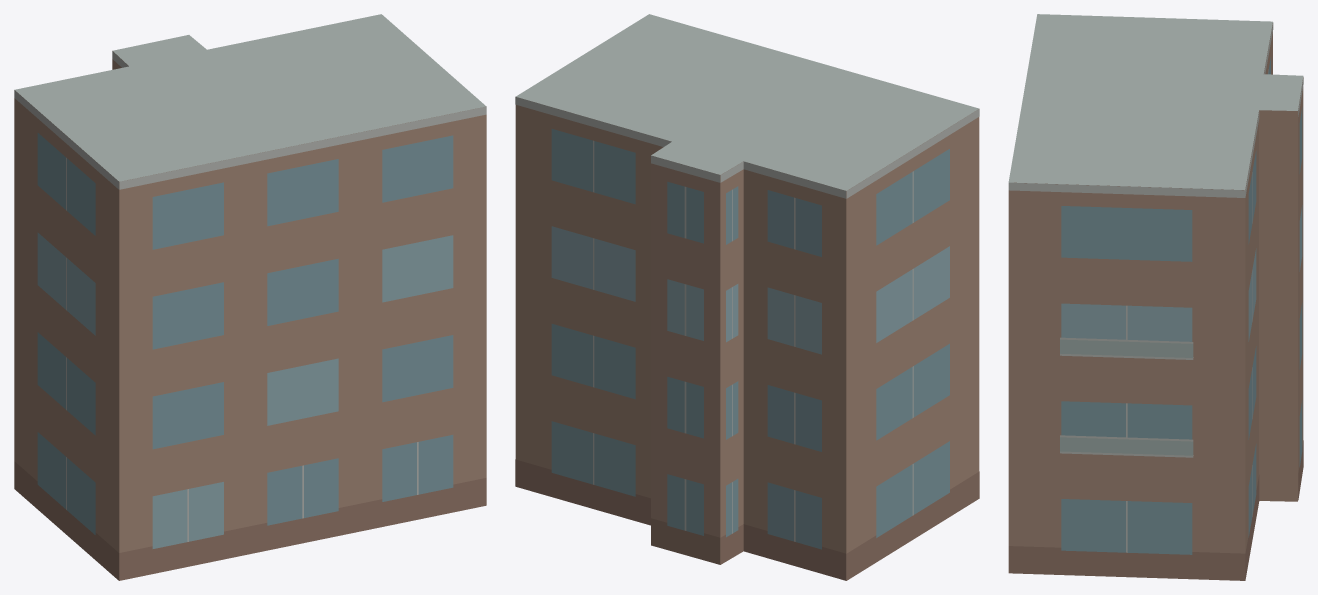
The model's file is survey-upis-32917190.glb.
The picture shows the model from 3 angles, left to right: view 1: azimuth 30°, elevation 25°; view 2: azimuth 150°, elevation 25°; view 3: azimuth 270°, elevation 25°; orthographic projection. The views are drawn at different scales.
Parts seen in each view (by area): view 1: survey-upis-32917190.tmp; view 2: survey-upis-32917190.tmp; view 3: survey-upis-32917190.tmp.
Boxes of the visible parts, left/top/right/bottom form: survey-upis-32917190.tmp: left=14, top=14, right=486, bottom=580; survey-upis-32917190.tmp: left=515, top=14, right=979, bottom=580; survey-upis-32917190.tmp: left=1008, top=14, right=1303, bottom=580.
Size of the model in its own units: 11.61 by 12 by 8.22.
